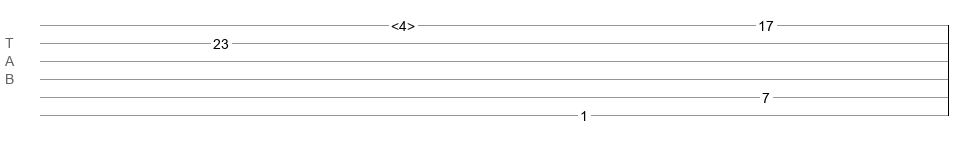1: (580, 108, 588, 118)
17: (758, 18, 774, 28)
23: (213, 36, 229, 46)
7: (762, 90, 770, 100)
harmonic: (391, 18, 415, 28)
